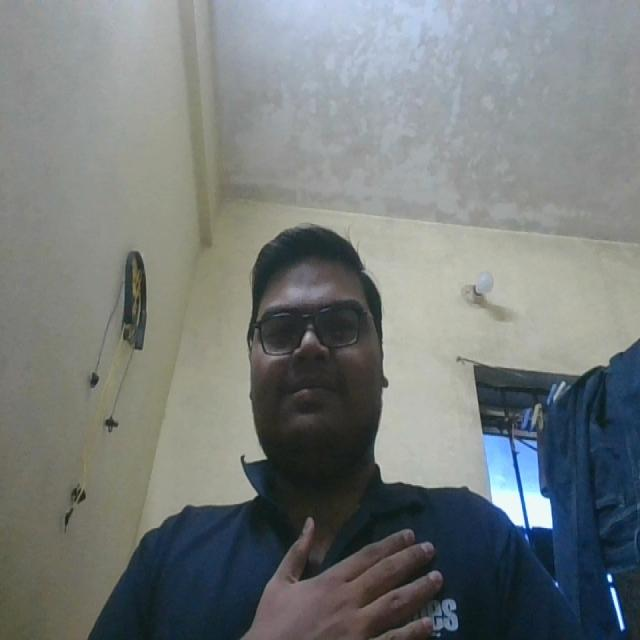Please: (228, 484, 443, 640)
